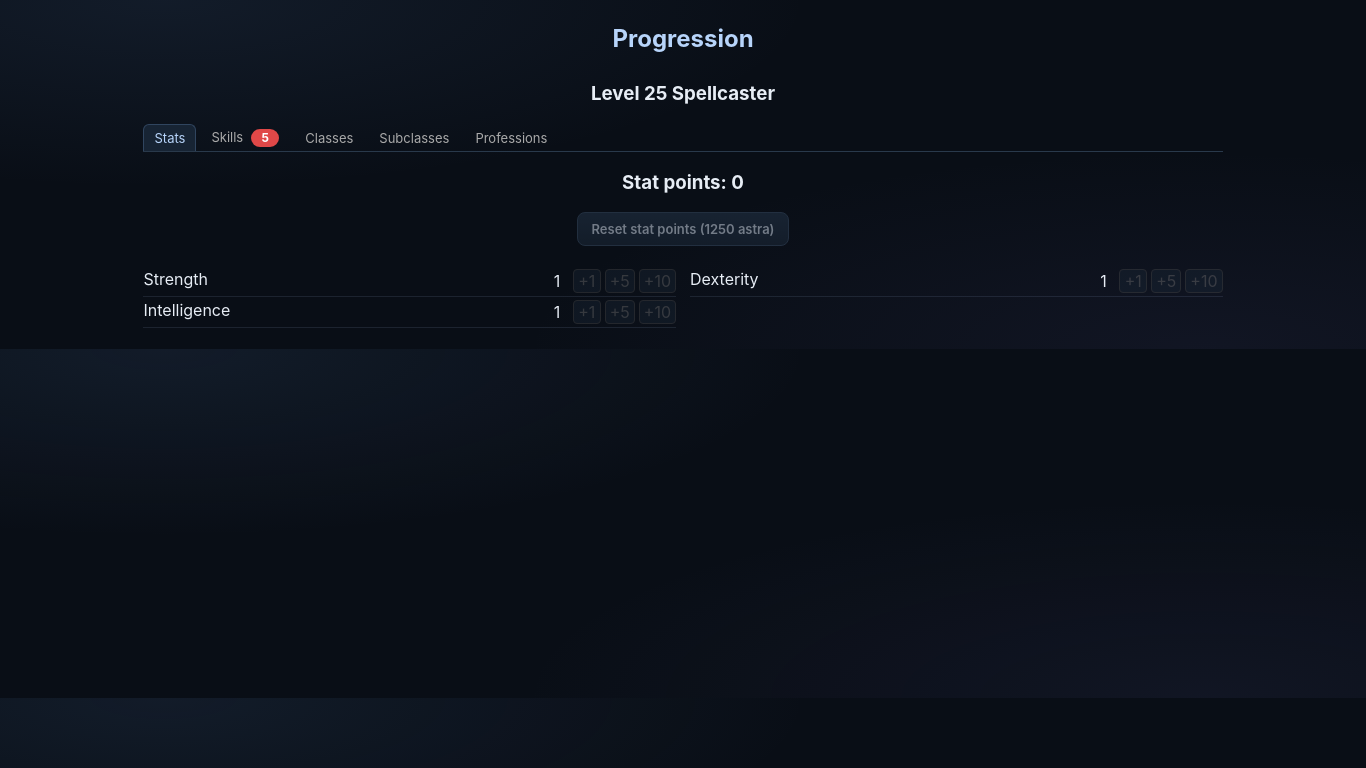
Test: overcapped skills display gem levels without blocking learned-level upgrades
Click the tab "Skills 5": (245, 137) x1=200 y1=124 x2=290 y2=151
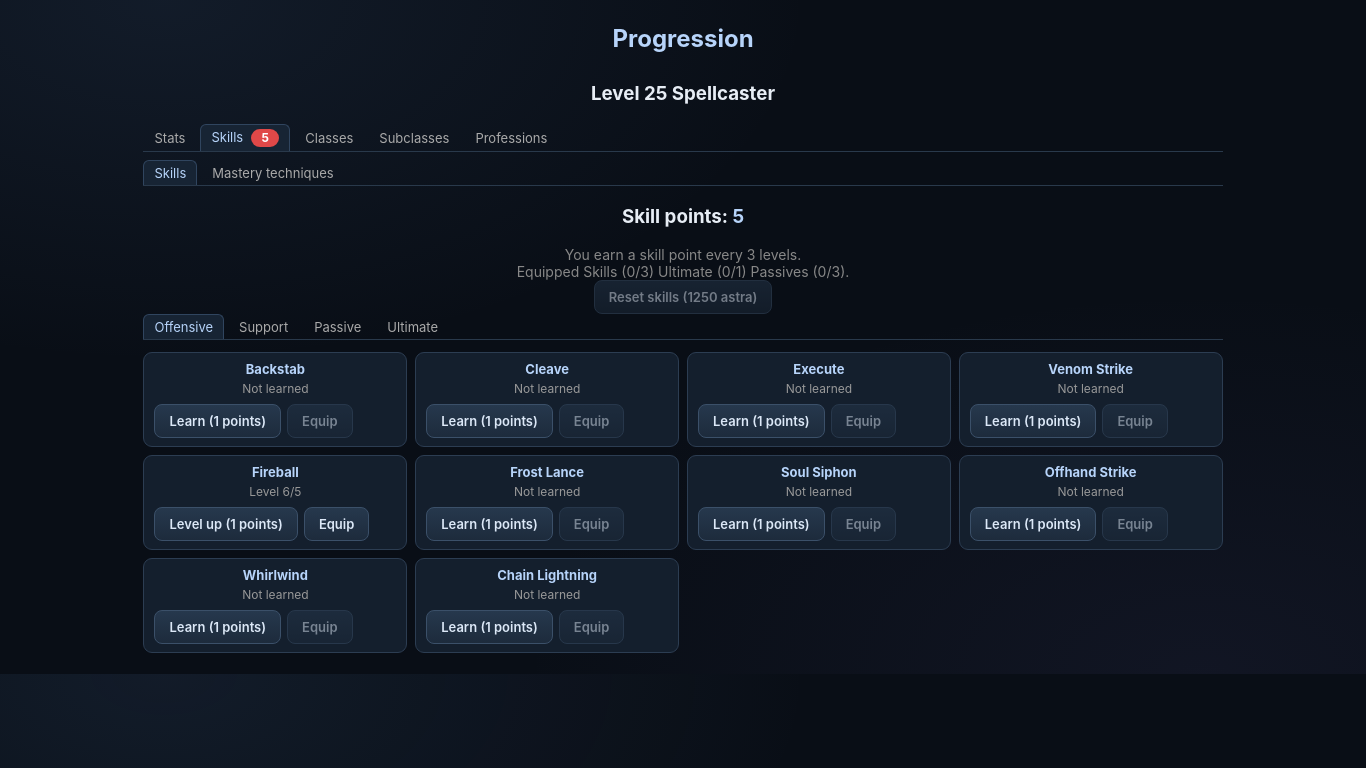
Expected: the text "Level 6/5" is shown, x1=249 y1=484 x2=302 y2=499
Expected: the button "Level up (1 points)" is enabled, x1=154 y1=507 x2=298 y2=541
Click the tab "Ultimate": (413, 327) x1=376 y1=314 x2=449 y2=339
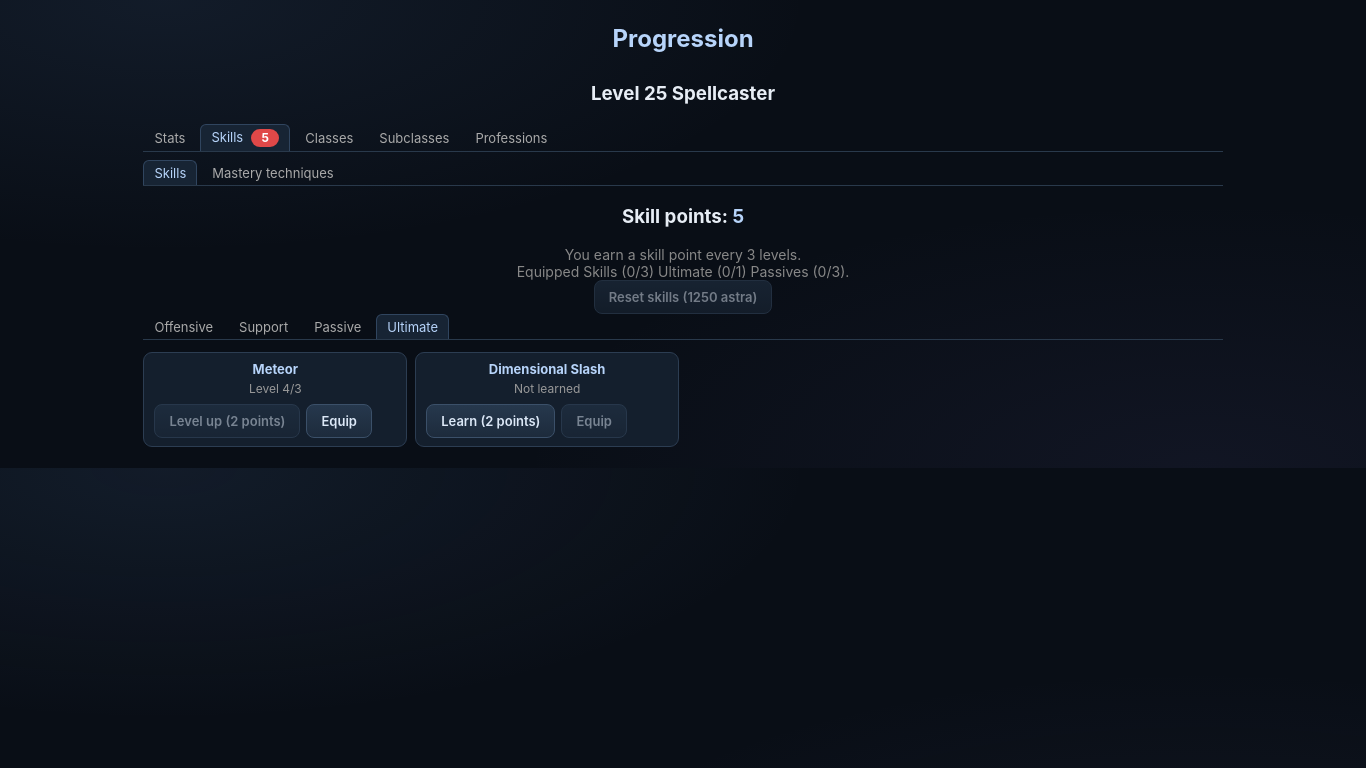
Expected: the text "Level 4/3" is shown, x1=249 y1=381 x2=302 y2=396
Expected: the button "Level up (2 points)" is disabled, x1=154 y1=404 x2=300 y2=438
